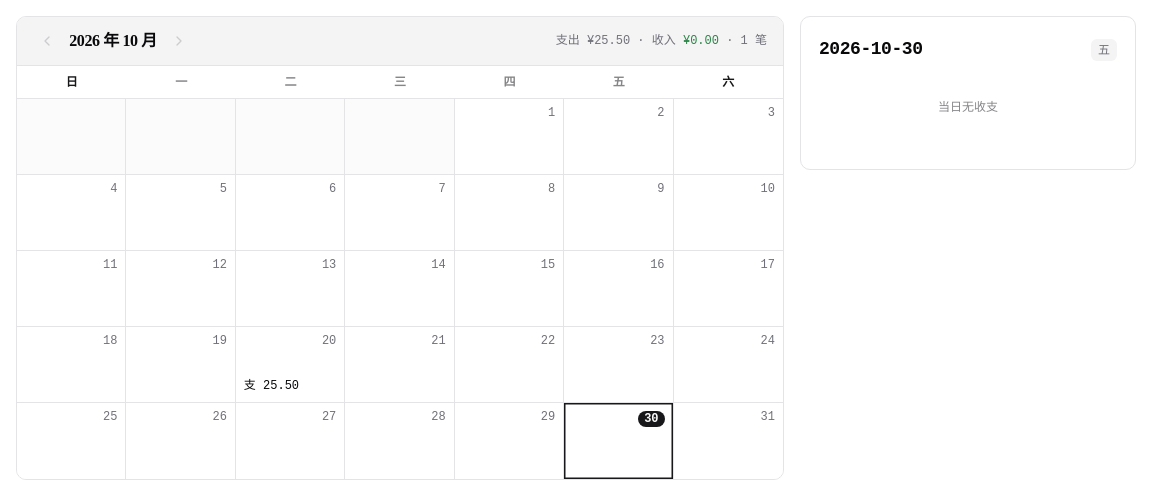
Test: renders the month ledger with day subtotals and a day panel
Expected: the text "¥25.50" is shown, [587, 34, 630, 48]
Expected: the text "2026 年 10 月" is shown, [65, 29, 161, 53]
What coordinates should you click on to do the following:
click the cell named "2026-10-20，支出 25.50，收入 0.00"
I would click on:
 (290, 365)
Its box is [236, 327, 345, 403].
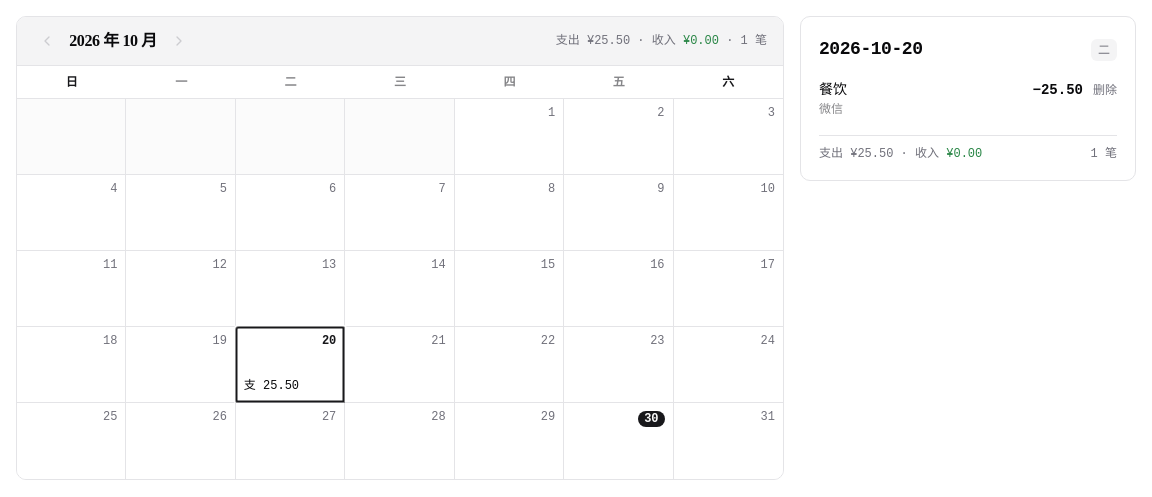
Expected: the text "餐饮" is shown, [819, 79, 847, 99]
